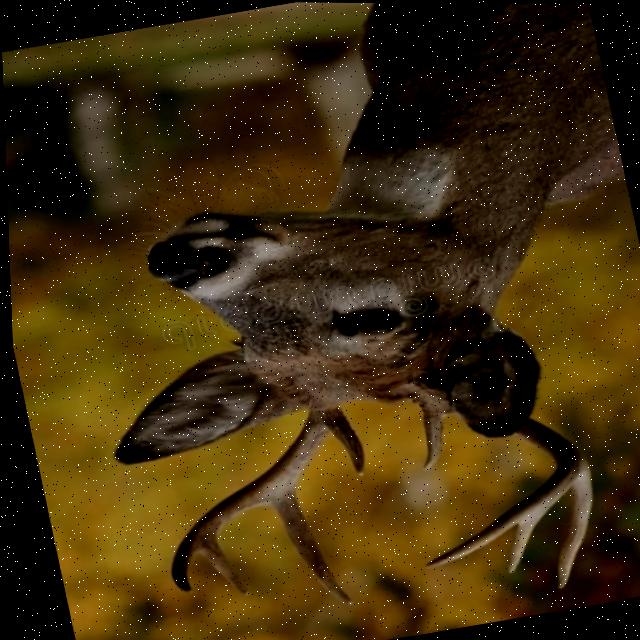L-G1: (418, 409, 441, 471)
L-G2: (551, 457, 590, 588)
L-G3: (502, 516, 534, 573)
R-F: (165, 405, 337, 594)
R-G1: (322, 411, 361, 475)
R-G2: (267, 491, 349, 605)
R-G3: (194, 536, 244, 596)
